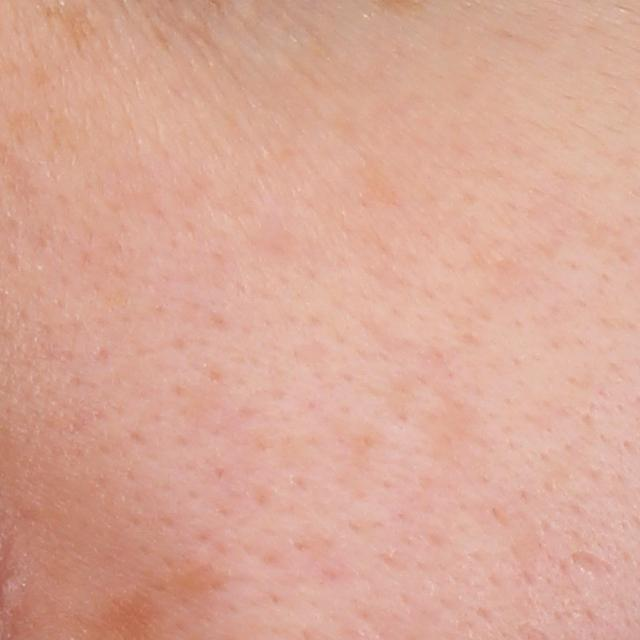atrophic_scar: (568, 548, 620, 583)
melasma: (45, 5, 94, 57)
